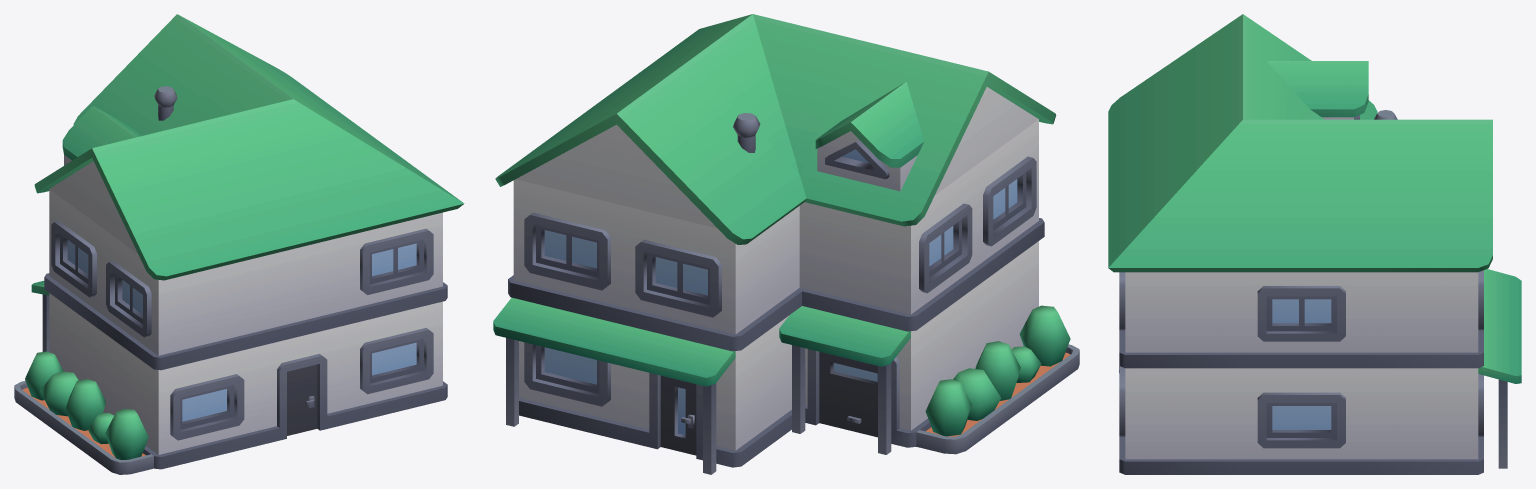
The model's file is k-city-kit-suburban-building-type-f.glb.
3 views of the same model, side by side, from view 1: azimuth 30°, elevation 25°; view 2: azimuth 150°, elevation 25°; view 3: azimuth 270°, elevation 25° (orthographic). The views are drawn at different scales.
Visible parts, largest first — view 1: building-type-f; view 2: building-type-f; view 3: building-type-f.
Boxes of the visible parts, x1,y1,x2,y2 form: building-type-f: [14, 14, 464, 474]; building-type-f: [493, 14, 1079, 474]; building-type-f: [1108, 14, 1521, 474].
Size of the model in its own units: 1.43 by 1.14 by 1.41.
Materials: 1 (1 with a texture image).
